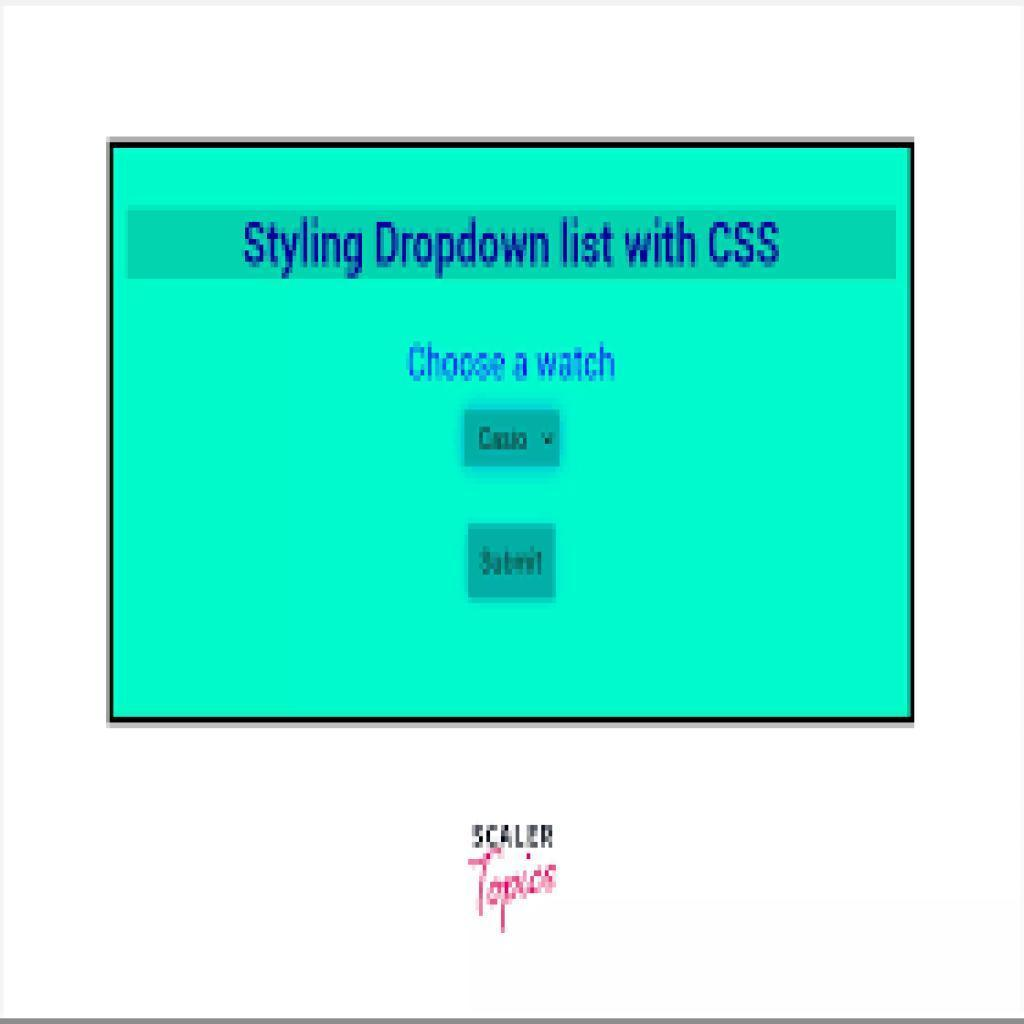button: (467, 521, 557, 599)
dropdown: (462, 406, 558, 466)
